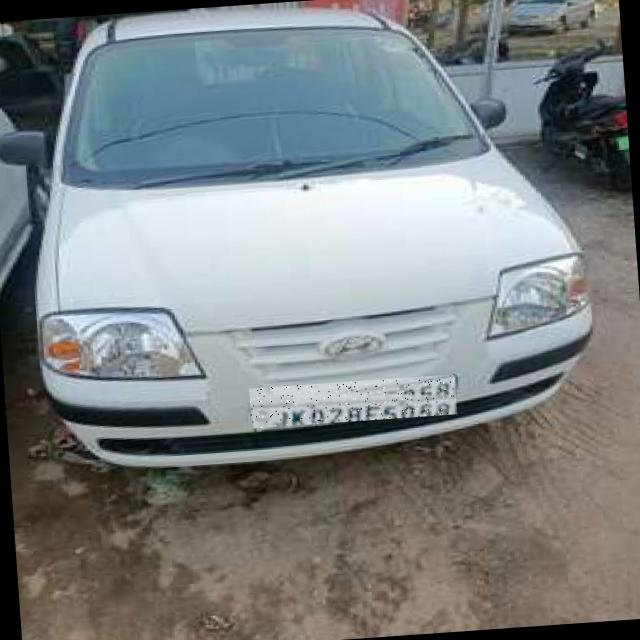Plate: (250, 375, 458, 429)
